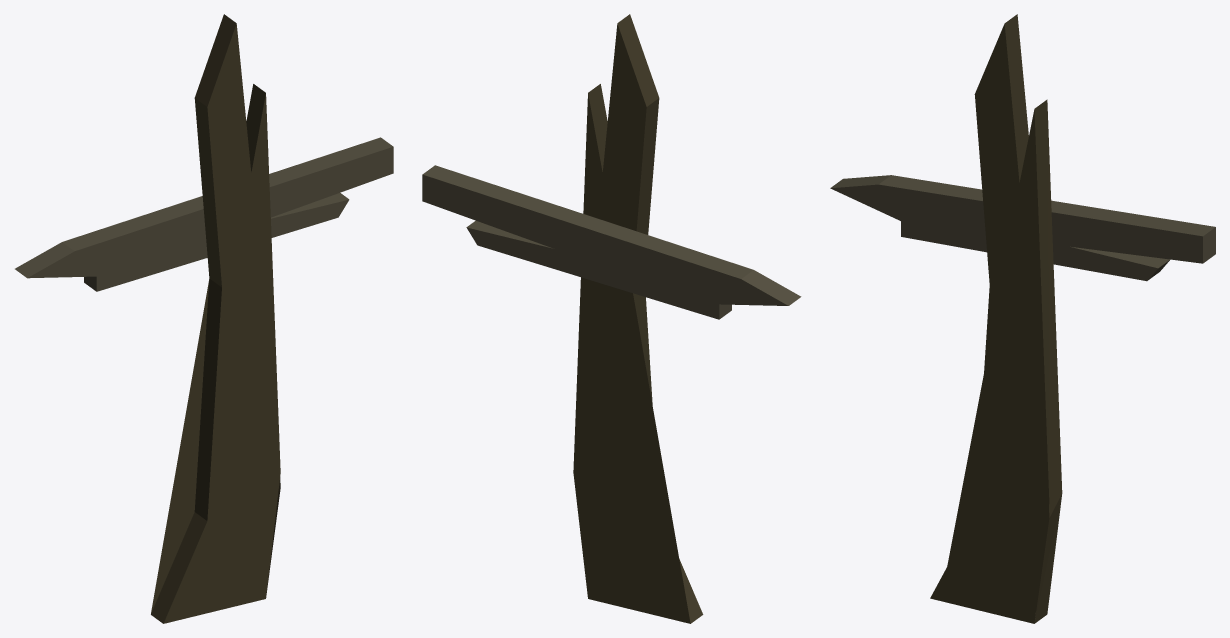
File: obj_grave_marker_0.obj
3 renders of one model, left to right at view 1: azimuth 30°, elevation 25°; view 2: azimuth 150°, elevation 25°; view 3: azimuth 330°, elevation 25°, orthographic.
Size of the model in its own units: 0.7812 by 1.19 by 0.1172.
